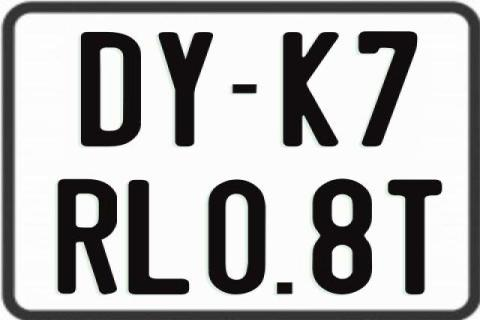0: (310, 178, 375, 298), (358, 30, 422, 150), (208, 178, 269, 298)
D: (80, 32, 142, 150)
K: (283, 30, 341, 148)
L: (126, 180, 187, 294)
R: (57, 177, 122, 295)
T: (385, 179, 443, 295)
Y: (158, 30, 218, 148)
